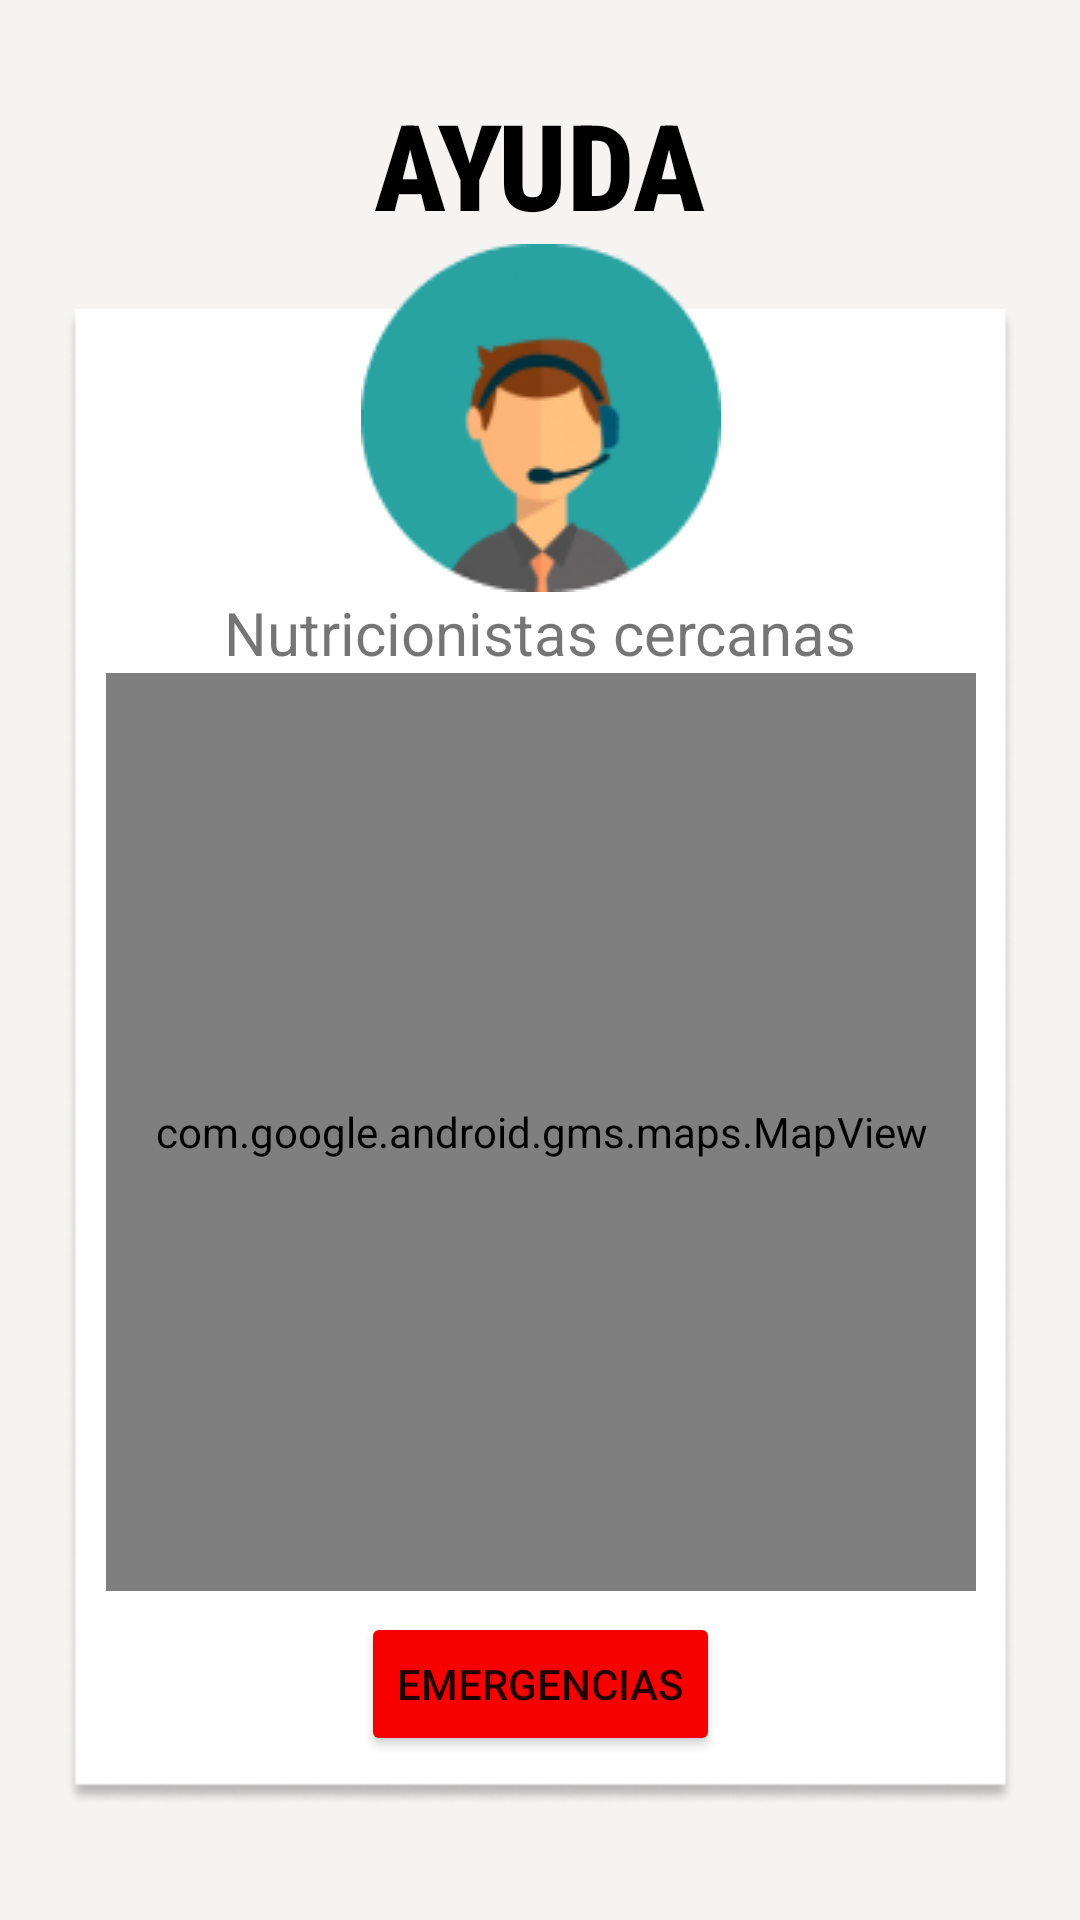

Point at icon controls on the screen. Image size 1080w x 1920h, points as point (x, y).
avatarcallcenter: point (541, 418)
